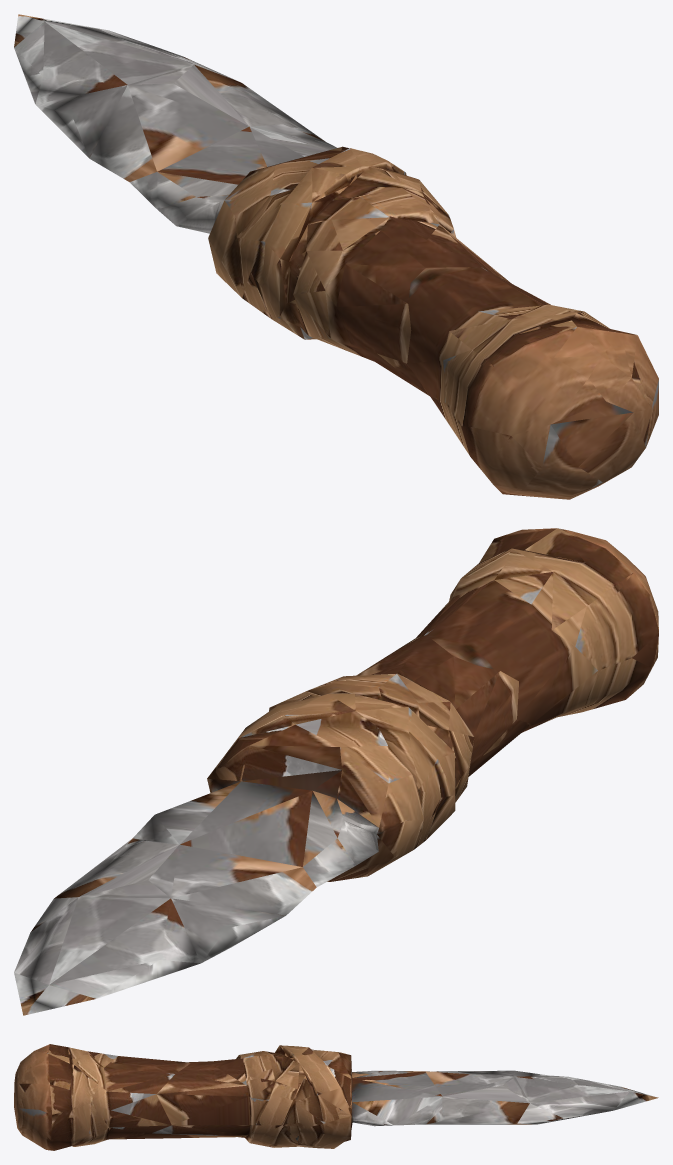
Rendered from knife.glb.
The picture shows the model from 3 angles, top to bottom: view 1: azimuth 30°, elevation 25°; view 2: azimuth 150°, elevation 25°; view 3: azimuth 270°, elevation 25°; orthographic projection. The views are drawn at different scales.
Parts seen in each view (by area): view 1: Model; view 2: Model; view 3: Model.
Part boxes in pixels (bbox=[...]): Model: bbox=[14, 14, 658, 499]; Model: bbox=[14, 528, 658, 1015]; Model: bbox=[14, 1044, 658, 1150].
Bounding box in the file's own units: 0.0777 × 0.0605 × 0.3801.
1 material, 1 textured.
